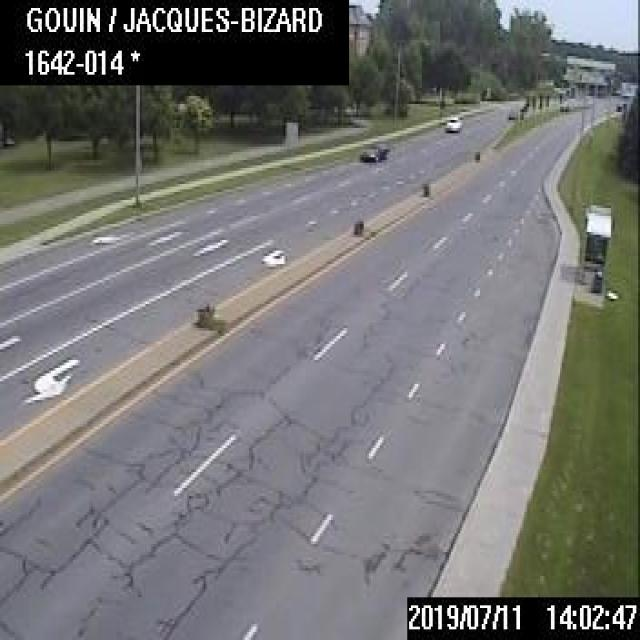vehicle: (358, 142, 388, 161), (444, 115, 461, 130)
